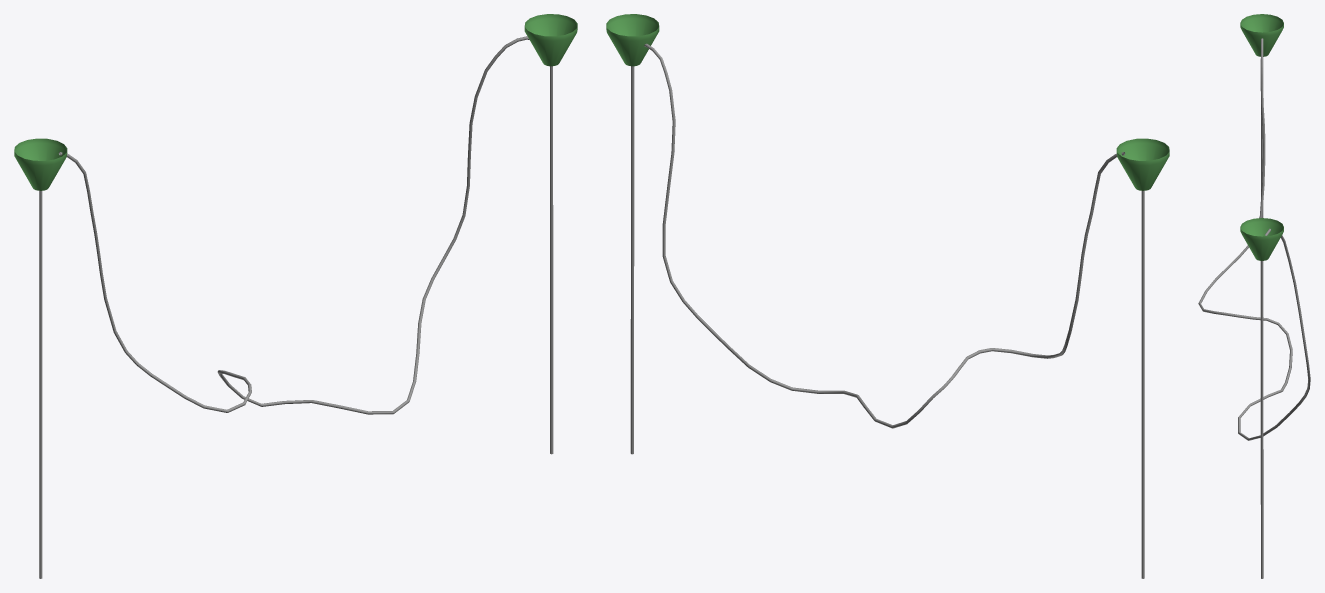
Rendered from House_Lampattach.FBX.
3 views of the same model, side by side, from view 1: azimuth 30°, elevation 25°; view 2: azimuth 150°, elevation 25°; view 3: azimuth 270°, elevation 25° (orthographic). The views are drawn at different scales.
Visible parts, largest first — view 1: House_Lampattach_Line, House_Lampattach; view 2: House_Lampattach_Line, House_Lampattach; view 3: House_Lampattach_Line, House_Lampattach.
Part boxes in pixels (left/top/right/bottom): House_Lampattach_Line: left=39, top=36, right=553, bottom=578; House_Lampattach: left=14, top=14, right=577, bottom=190; House_Lampattach_Line: left=630, top=43, right=1144, bottom=578; House_Lampattach: left=606, top=14, right=1169, bottom=190; House_Lampattach_Line: left=1198, top=38, right=1310, bottom=578; House_Lampattach: left=1240, top=14, right=1283, bottom=260.
Bounding box in the file's own units: 91.03 × 66.93 × 19.43.
